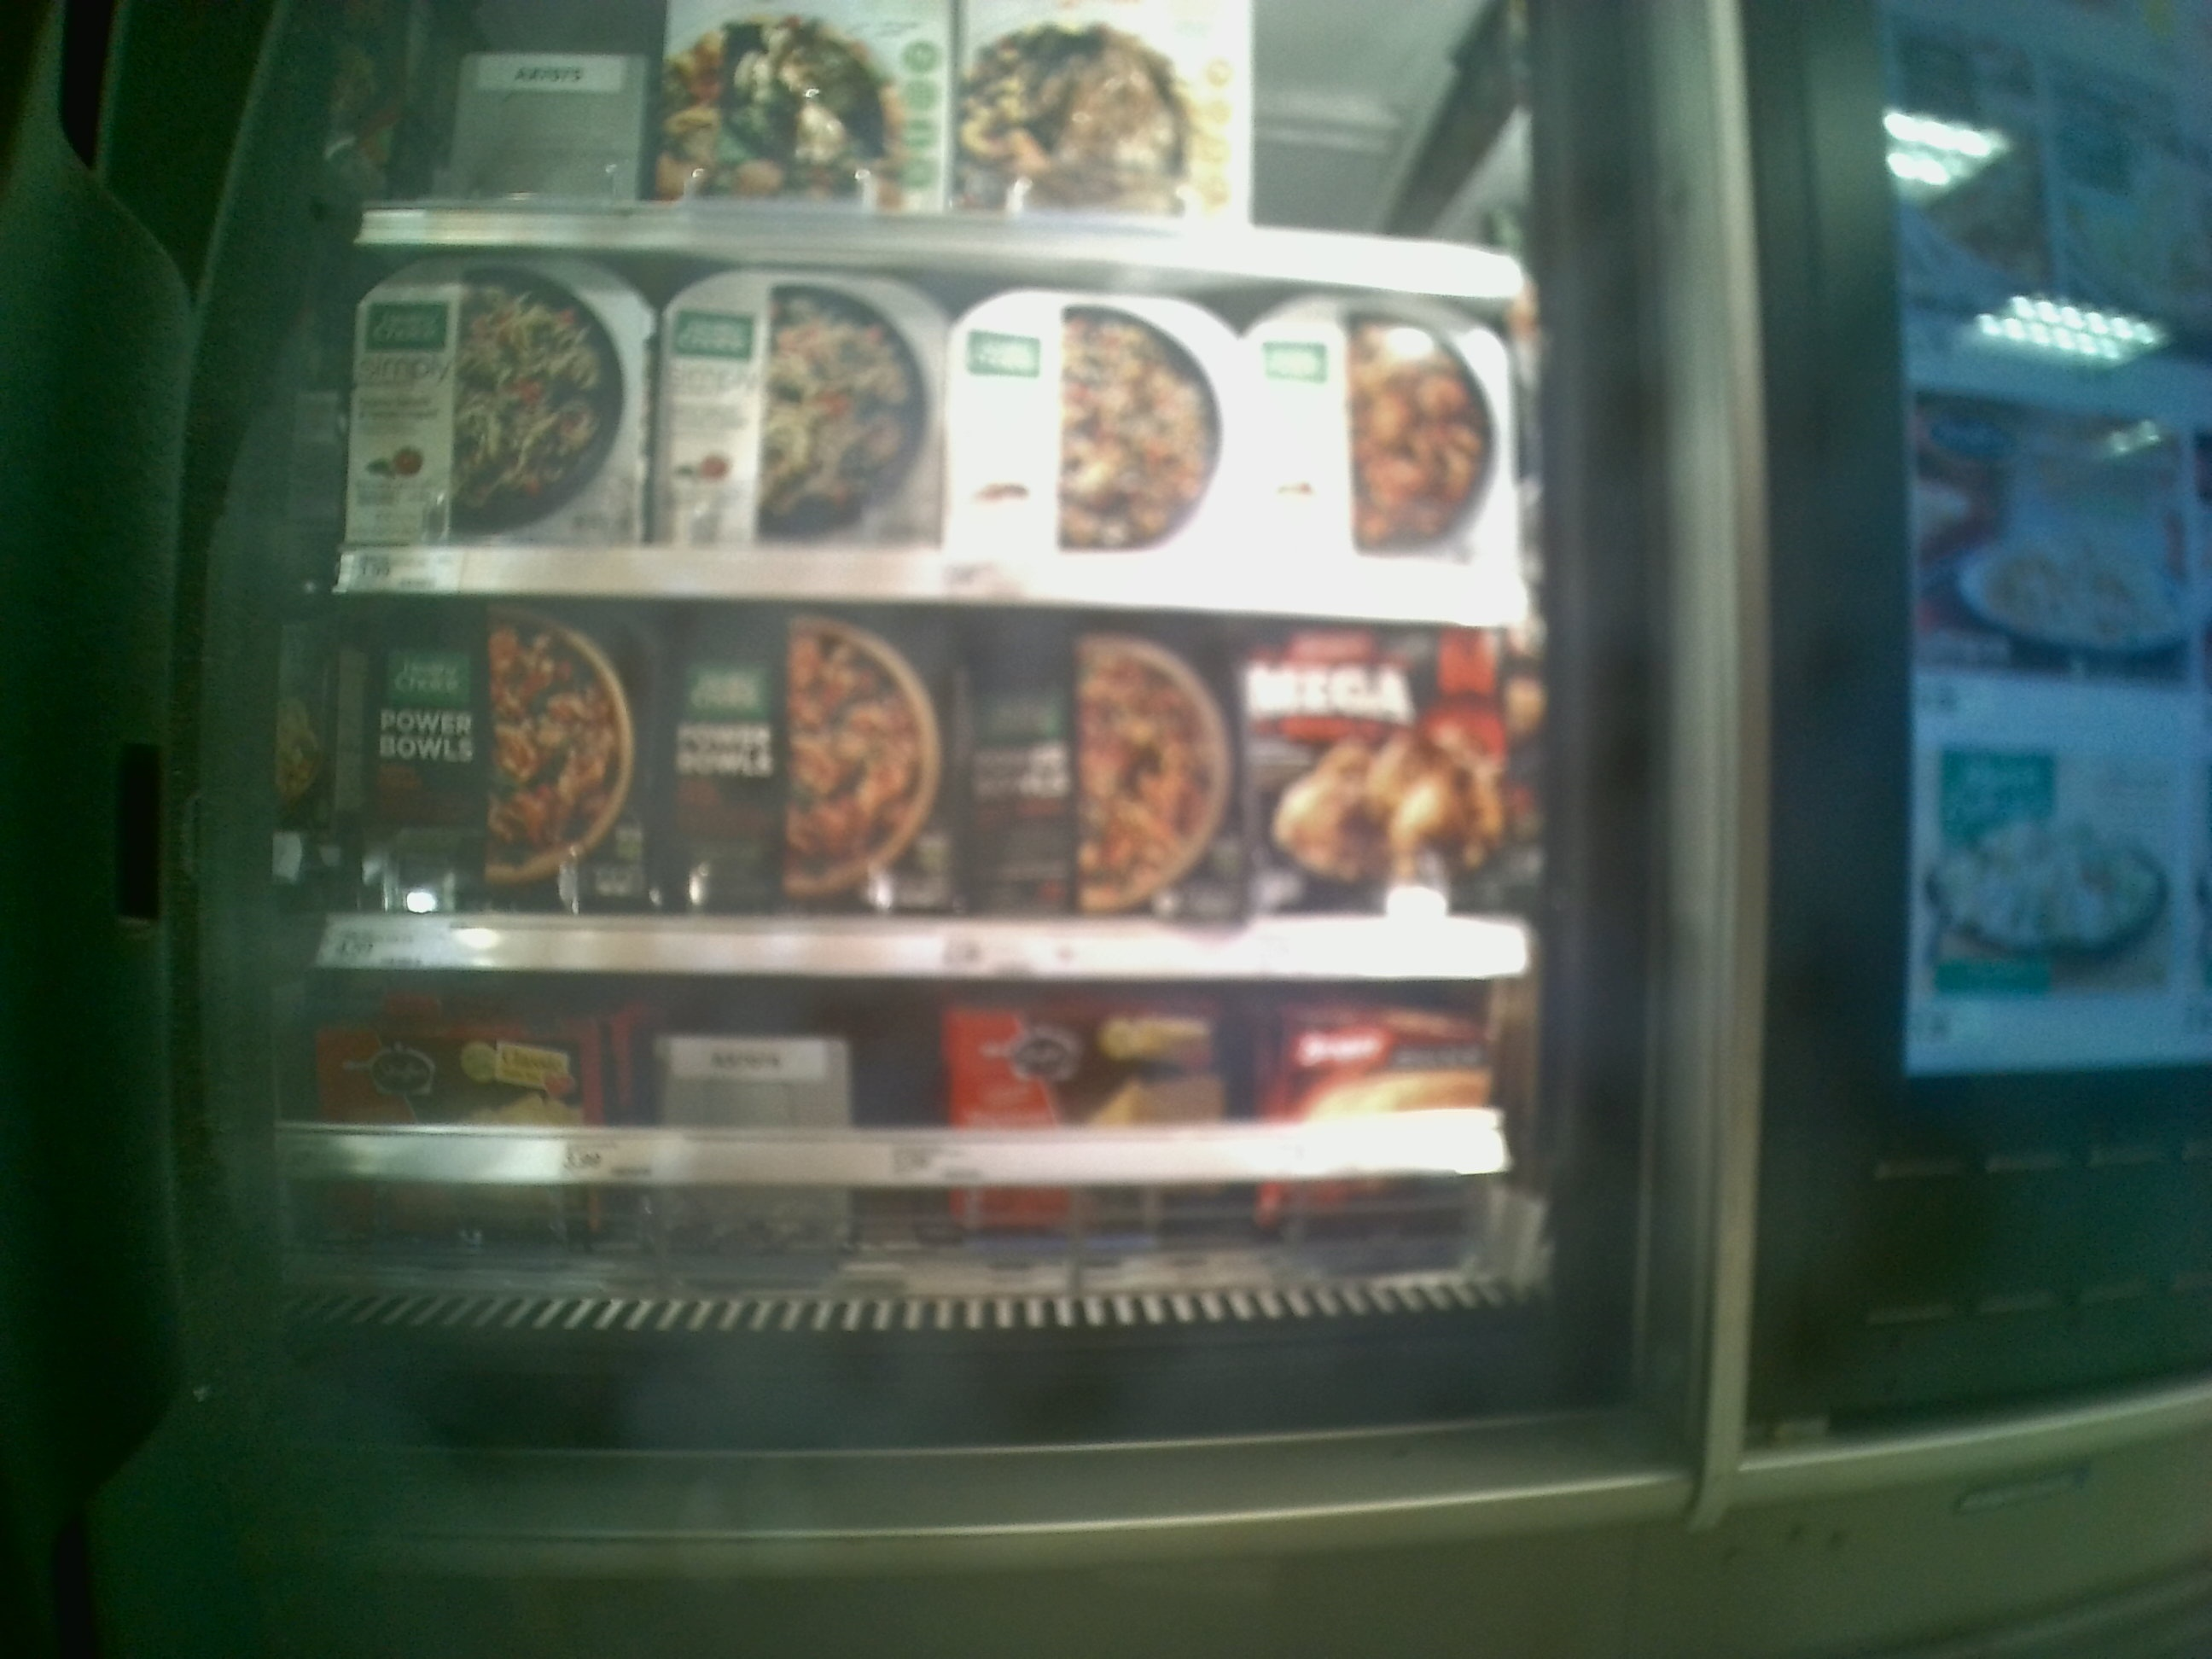shelf: (296, 974, 1554, 1368), (314, 592, 1541, 979), (334, 239, 1533, 627)
